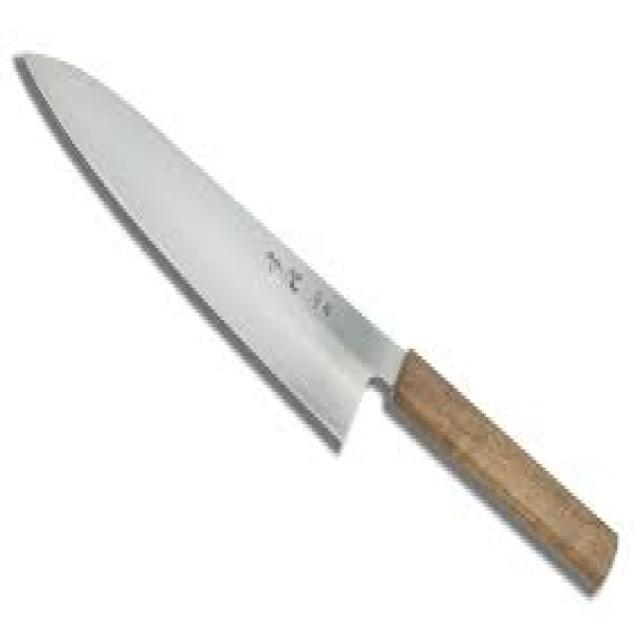knives: (9, 40, 620, 604)
